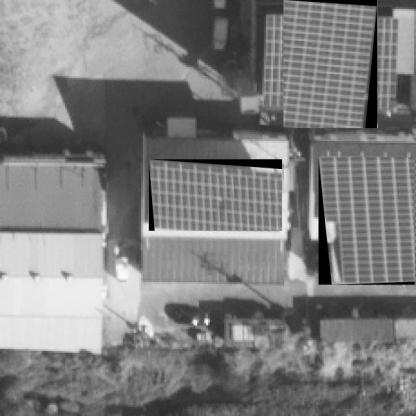solar-pv-panel: (283, 0, 377, 128), (322, 157, 415, 283), (150, 160, 282, 231)
